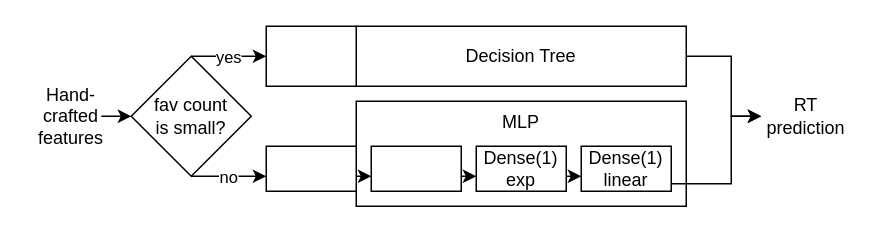
Image size: 876x233. Some labels were removed from this diagram. The shapes that lost their labels are listed below. From the top down, each one's box as (x1, y1, x2, y2) in pixels, then its label:
(265, 25, 356, 86): bucketize
(265, 145, 356, 191): normalize
(370, 145, 461, 191): Dense(64) ReLU
